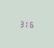one: (24, 19, 28, 28)
six: (29, 20, 33, 28)
three: (18, 19, 22, 27)
